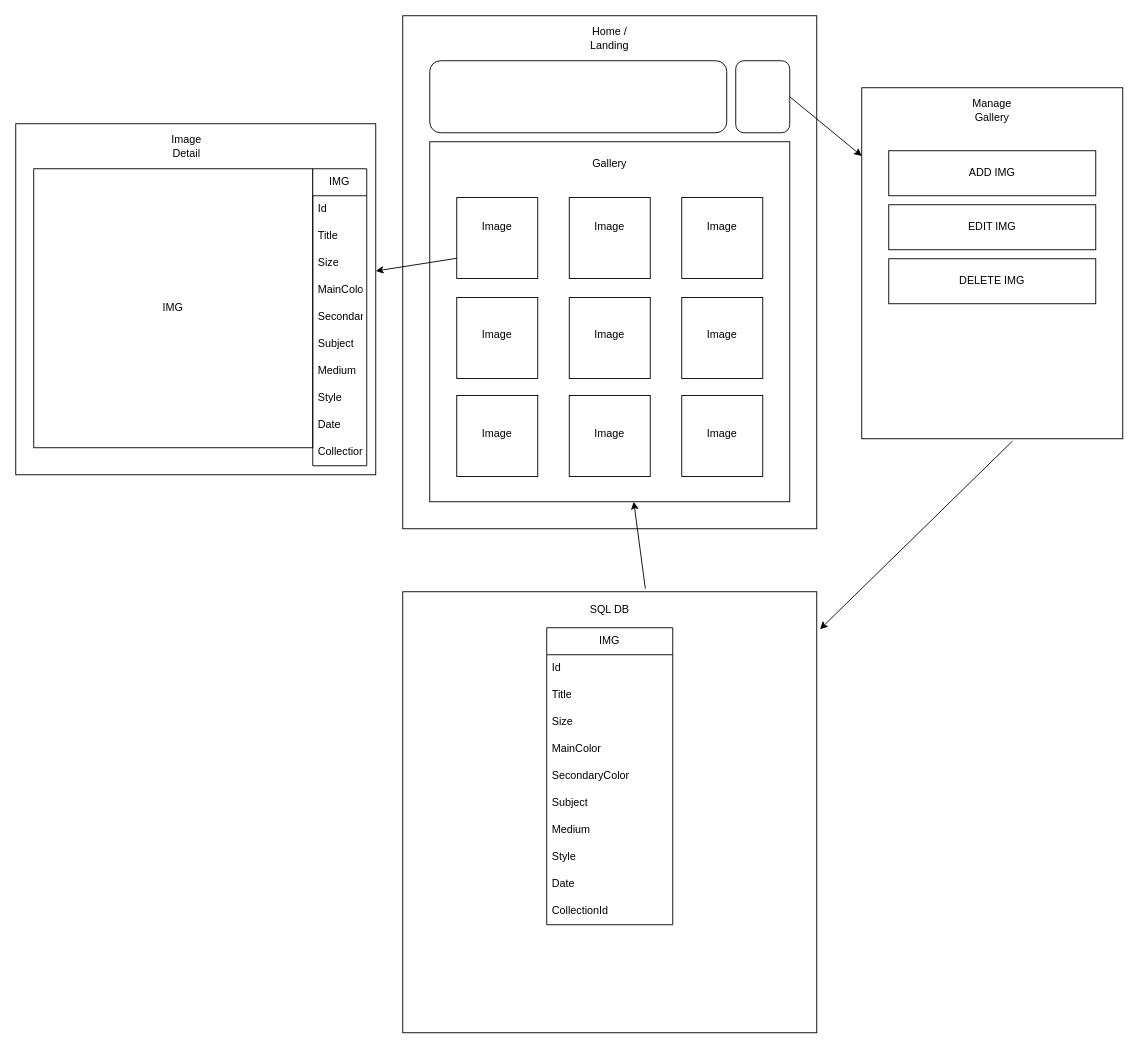
Some shapes in this 1139 by 1049 pixel diagram are drawn without their labels. Each missing label, with the centre of its shape:
"Log In" belongs at point (762, 96).
"Toolbar" belongs at point (578, 96).
